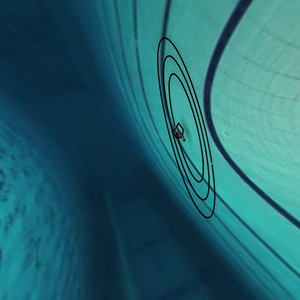circle: (125, 32, 240, 232)
submarine: (164, 117, 194, 152)
